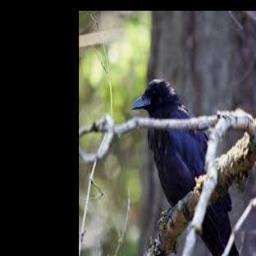Crow: (133, 78, 241, 256)
